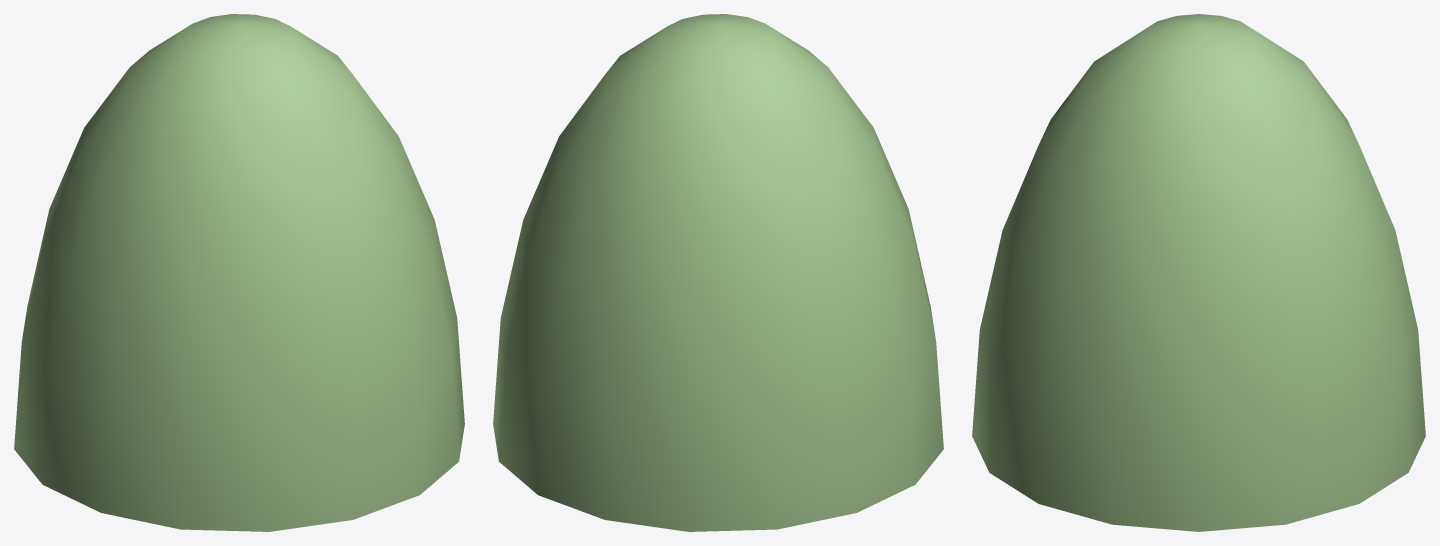
The model's file is shrub.glb.
The picture shows the model from 3 angles, left to right: view 1: azimuth 30°, elevation 25°; view 2: azimuth 150°, elevation 25°; view 3: azimuth 270°, elevation 25°; orthographic projection.
Visible parts, largest first — view 1: shrub; view 2: shrub; view 3: shrub.
Boxes of the visible parts, x1,y1,x2,y2 form: shrub: (14, 14, 464, 531); shrub: (493, 14, 943, 531); shrub: (972, 14, 1425, 531).
Bounding box in the file's own units: 1 × 1 × 1.
